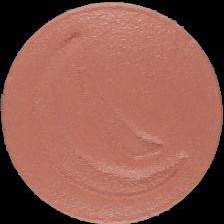45963-600: (0, 0, 224, 224)
